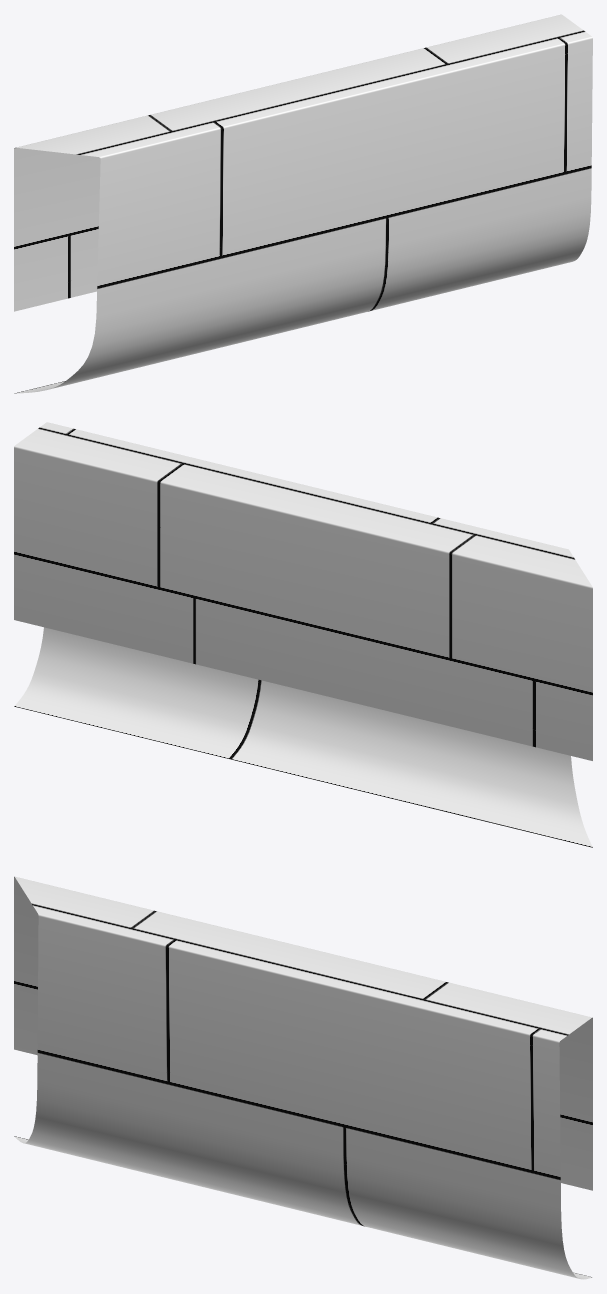
The model's file is Parapet01_350cmAngle2.FBX.
3 views of the same model, one above another, from view 1: azimuth 30°, elevation 25°; view 2: azimuth 150°, elevation 25°; view 3: azimuth 330°, elevation 25° (orthographic). The views are drawn at different scales.
Parts seen in each view (by area): view 1: Parapet01_350cmAngle2; view 2: Parapet01_350cmAngle2; view 3: Parapet01_350cmAngle2.
Part boxes in pixels (left/top/right/bottom): Parapet01_350cmAngle2: left=14, top=14, right=592, bottom=393; Parapet01_350cmAngle2: left=14, top=422, right=592, bottom=847; Parapet01_350cmAngle2: left=14, top=876, right=592, bottom=1279.
Size of the model in its own units: 350 by 150 by 35.13.
